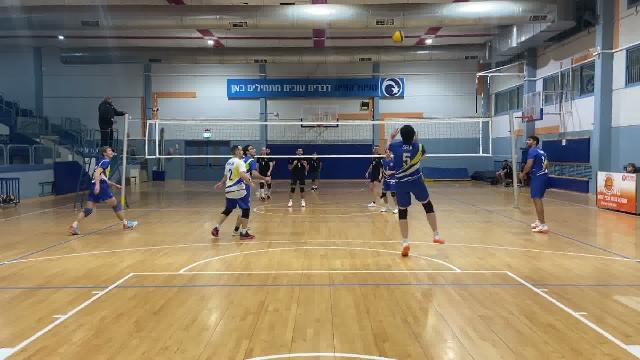ball: (391, 29, 406, 44)
